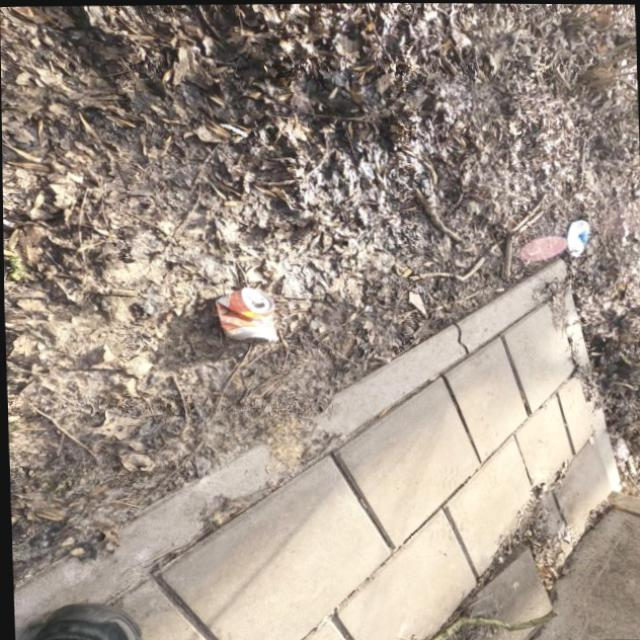Can-Metal: (213, 285, 278, 344)
Plastic: (563, 217, 591, 255)
